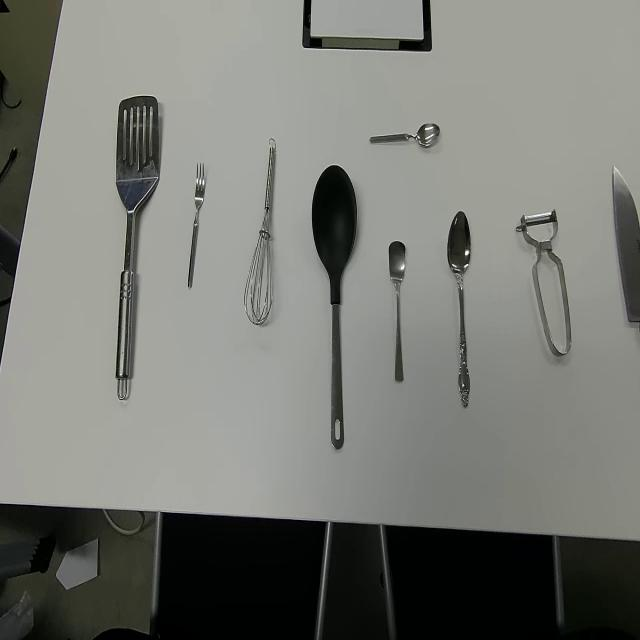Desert-Spoon: (447, 209, 472, 410)
Dinner-Fork: (187, 160, 206, 291)
Kitchen-Knife: (611, 161, 640, 334)
Peeler: (515, 208, 572, 358)
Serving-Spoon: (114, 93, 160, 402), (311, 162, 358, 451)
Tea-Spoon: (388, 239, 407, 385), (368, 121, 441, 150)
Whisk: (243, 136, 277, 328)
